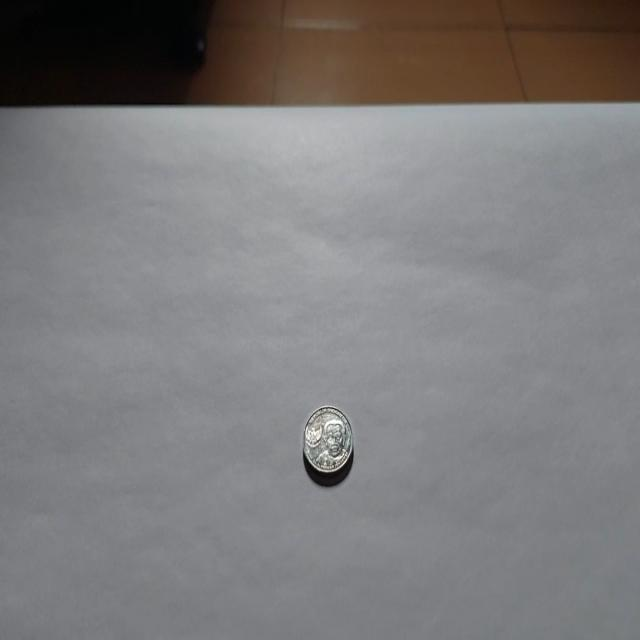seratus rupiah: (302, 403, 353, 482)
